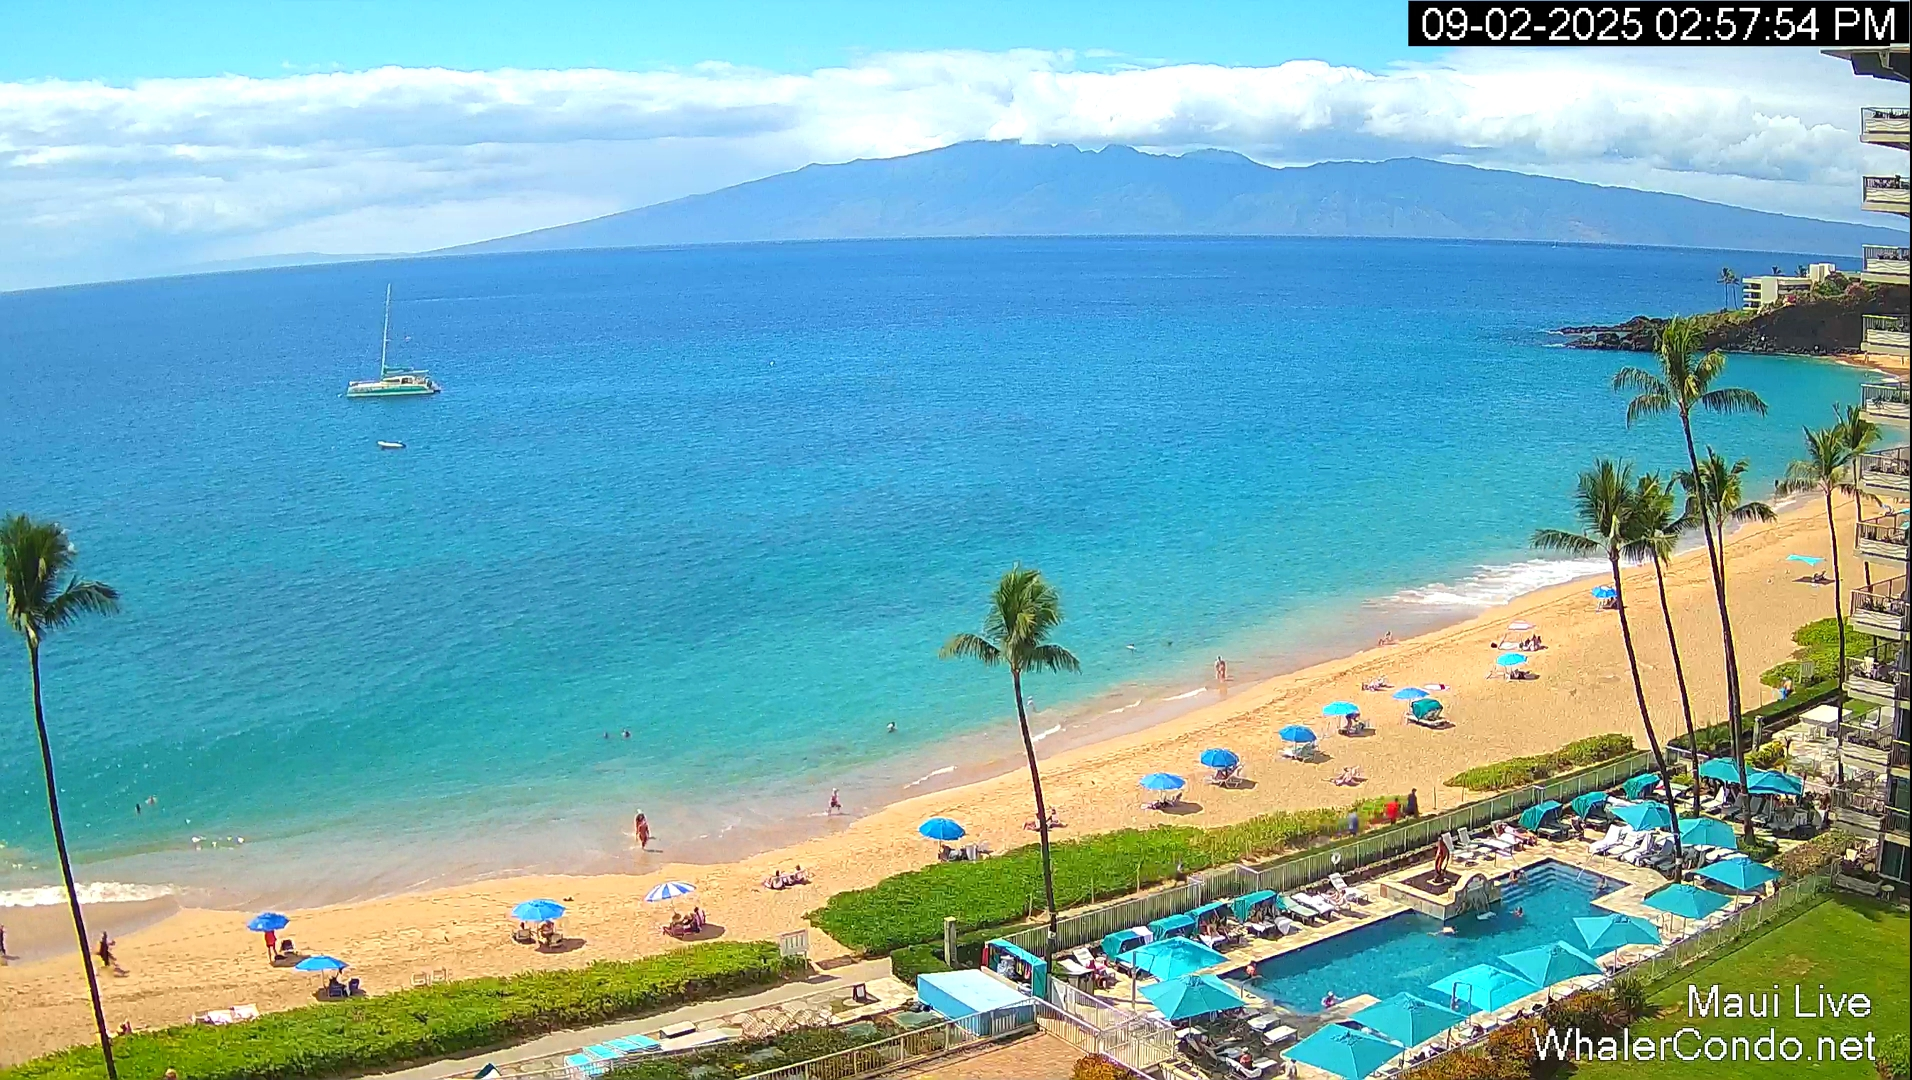boat: (345, 282, 440, 398), (345, 369, 440, 398), (376, 440, 406, 449)
person: (156, 491, 236, 611), (635, 813, 650, 850), (264, 930, 278, 963), (1405, 787, 1419, 818), (827, 788, 843, 815), (1386, 798, 1400, 825), (1238, 1047, 1254, 1070), (349, 978, 368, 997), (99, 931, 109, 967), (538, 920, 555, 941), (692, 906, 705, 933), (280, 939, 298, 956), (0, 924, 8, 956), (1218, 660, 1227, 682), (634, 810, 640, 842), (163, 1068, 177, 1080), (886, 721, 898, 733), (518, 921, 527, 930), (135, 803, 141, 815)
surfboard: (643, 849, 663, 853)
